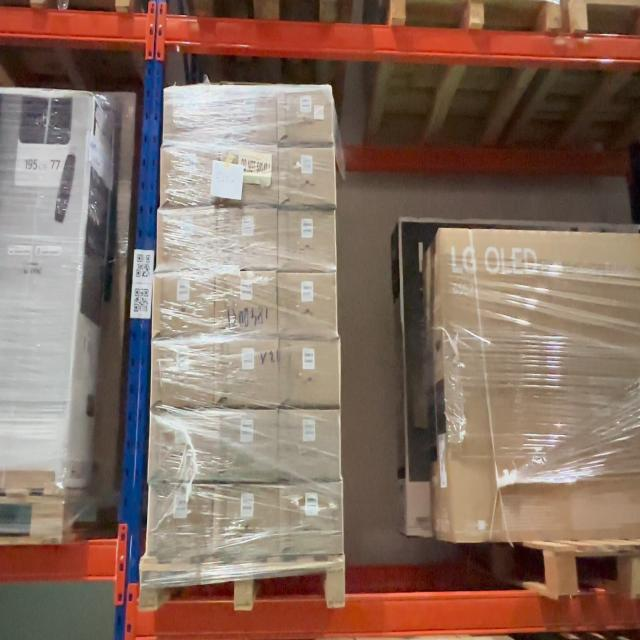box: (149, 487, 212, 558), (150, 414, 216, 480), (280, 410, 341, 480), (218, 489, 277, 561), (153, 341, 212, 406), (216, 342, 276, 405), (279, 274, 337, 339), (282, 489, 342, 551), (220, 415, 276, 478), (219, 276, 276, 335), (279, 345, 338, 402), (219, 210, 276, 268), (156, 277, 214, 332), (279, 212, 334, 269), (220, 90, 276, 145), (163, 89, 216, 144), (162, 152, 218, 204), (156, 214, 216, 262), (280, 88, 331, 144), (220, 150, 276, 200), (281, 151, 335, 200)
